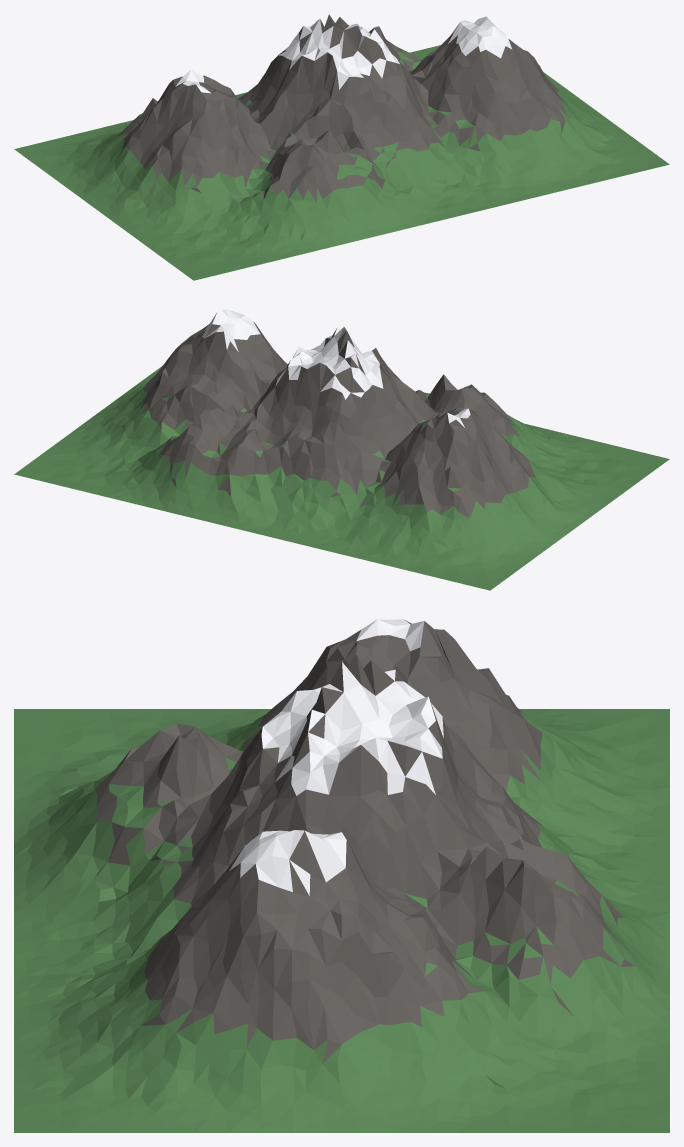
File: Mountain_01.fbx
The picture shows the model from 3 angles, top to bottom: view 1: azimuth 30°, elevation 25°; view 2: azimuth 150°, elevation 25°; view 3: azimuth 270°, elevation 25°; orthographic projection. The views are drawn at different scales.
Parts seen in each view (by area): view 1: Mountain_01_Grass, Mountain_01_Rock, Mountain_01_Snow; view 2: Mountain_01_Grass, Mountain_01_Rock, Mountain_01_Snow; view 3: Mountain_01_Grass, Mountain_01_Rock, Mountain_01_Snow.
Boxes of the visible parts, x1,y1,x2,y2 form: Mountain_01_Grass: [14, 45, 669, 280]; Mountain_01_Rock: [117, 14, 568, 202]; Mountain_01_Snow: [175, 16, 512, 93]; Mountain_01_Grass: [14, 366, 669, 590]; Mountain_01_Rock: [140, 321, 535, 517]; Mountain_01_Snow: [201, 309, 470, 427]; Mountain_01_Grass: [14, 694, 669, 1132]; Mountain_01_Rock: [95, 620, 634, 1063]; Mountain_01_Snow: [229, 619, 443, 895].
Size of the model in its own units: 520 by 148 by 340.
